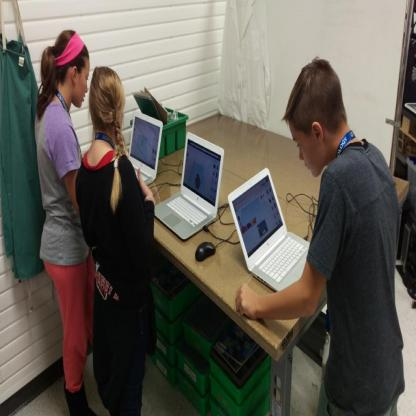board: (227, 159, 313, 289), (154, 131, 224, 241), (127, 109, 163, 189)
